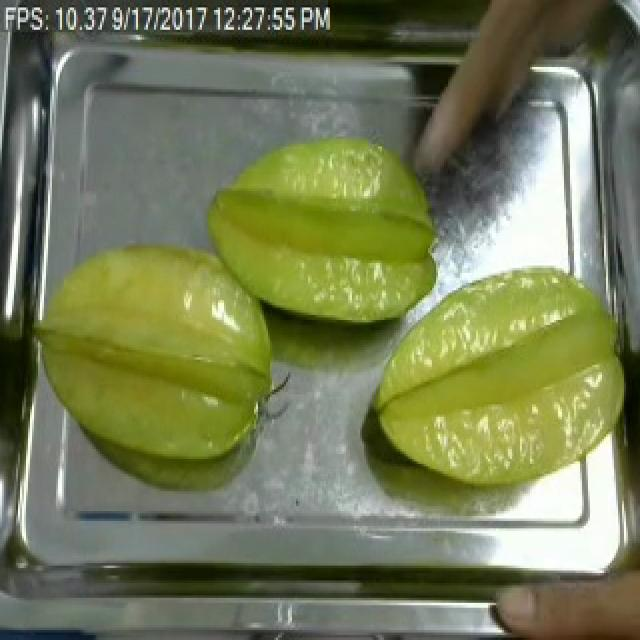fruit: (360, 258, 638, 501), (24, 233, 286, 471), (192, 126, 448, 335), (486, 536, 640, 640)
